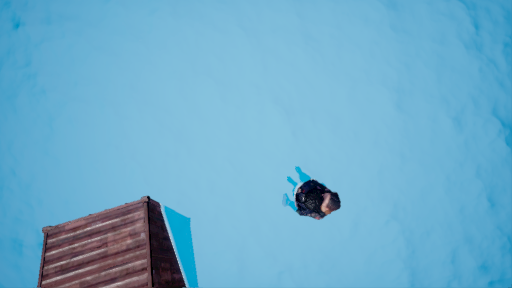person: (278, 166, 343, 221)
